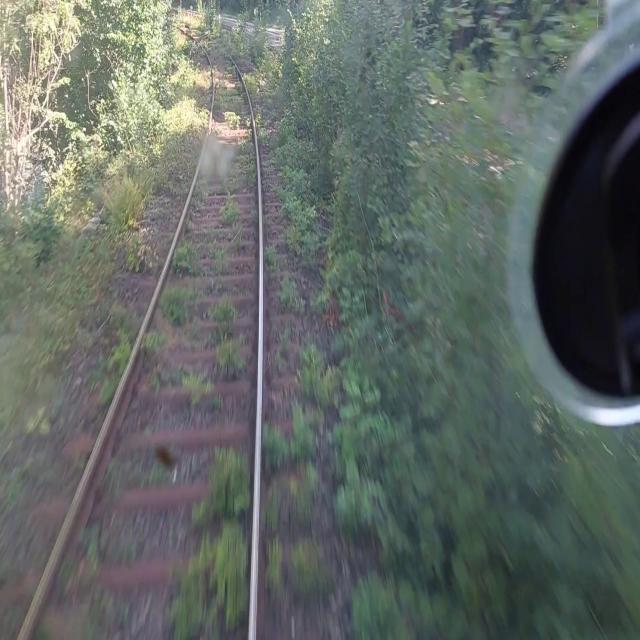Plant: (173, 12, 296, 254), (124, 23, 212, 274), (169, 445, 253, 639), (210, 56, 257, 196), (84, 315, 133, 404), (258, 400, 305, 475), (258, 479, 284, 609), (207, 295, 247, 376), (185, 167, 211, 231), (177, 369, 214, 411), (172, 238, 207, 280), (162, 282, 192, 331), (288, 537, 311, 598), (287, 471, 307, 528), (218, 187, 242, 225), (143, 329, 168, 359), (279, 276, 295, 308), (263, 245, 277, 273)
